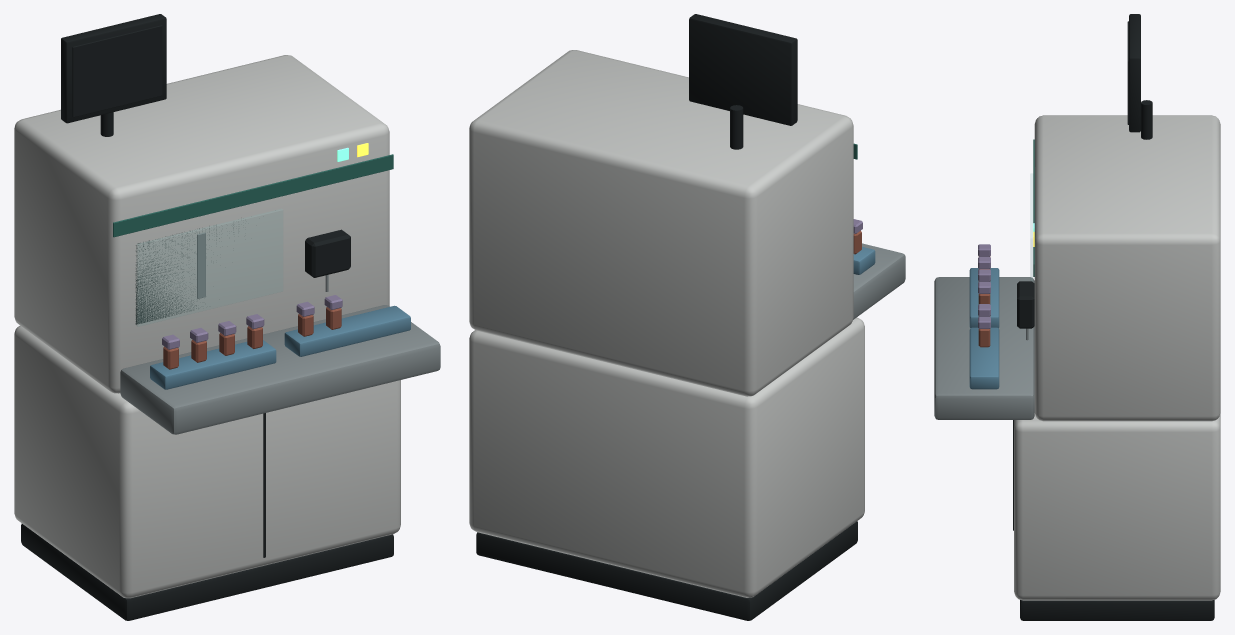
The model's file is hematology-analyzer.glb.
The picture shows the model from 3 angles, left to right: view 1: azimuth 30°, elevation 25°; view 2: azimuth 150°, elevation 25°; view 3: azimuth 270°, elevation 25°; orthographic projection. The views are drawn at different scales.
Visible parts, largest first — view 1: hematology-analyzer; view 2: hematology-analyzer; view 3: hematology-analyzer.
Boxes of the visible parts, box(x1,y1,x2,y2) form: hematology-analyzer: box(14, 14, 440, 620); hematology-analyzer: box(469, 14, 905, 620); hematology-analyzer: box(934, 14, 1220, 620).
Size of the model in its own units: 1 by 1.83 by 0.97.
